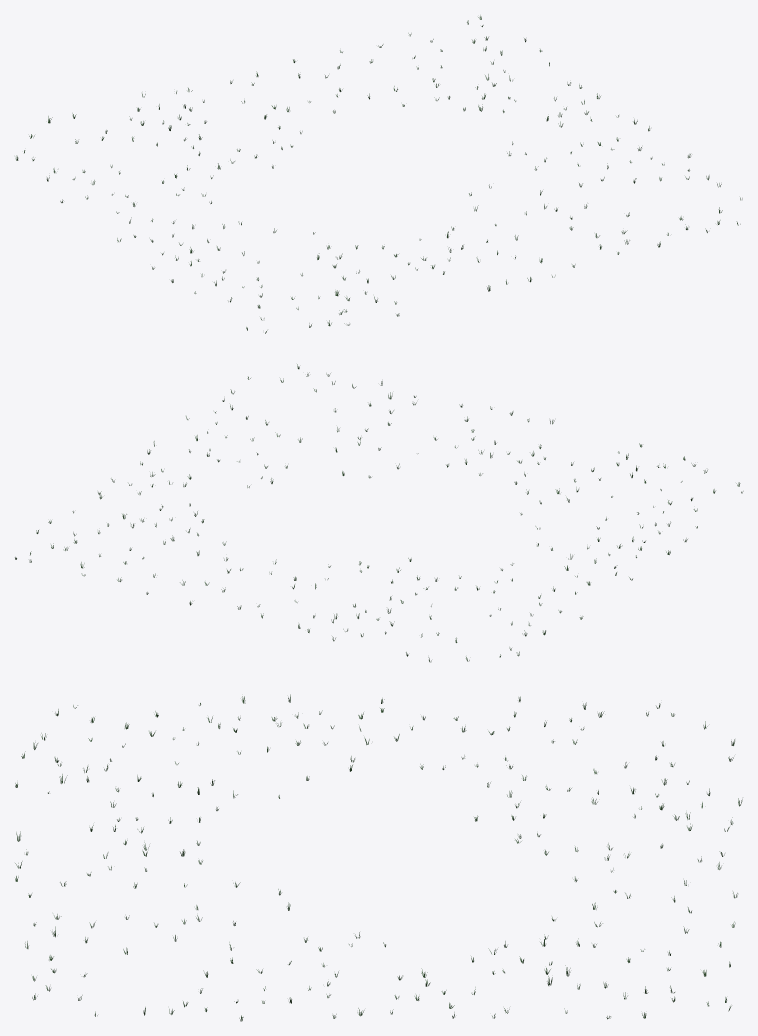
Rendered from rumput.fbx.
3 renders of one model, top to bottom at view 1: azimuth 30°, elevation 25°; view 2: azimuth 150°, elevation 25°; view 3: azimuth 270°, elevation 25°, orthographic. The views are drawn at different scales.
Parts seen in each view (by area): view 1: Grass_Tufts; view 2: Grass_Tufts; view 3: Grass_Tufts.
Part boxes in pixels (box(x1,y1,x2,y2)): Grass_Tufts: box(15, 15, 742, 333); Grass_Tufts: box(15, 364, 743, 662); Grass_Tufts: box(15, 694, 742, 1021).
Size of the model in its own units: 6343 by 134 by 6076.
